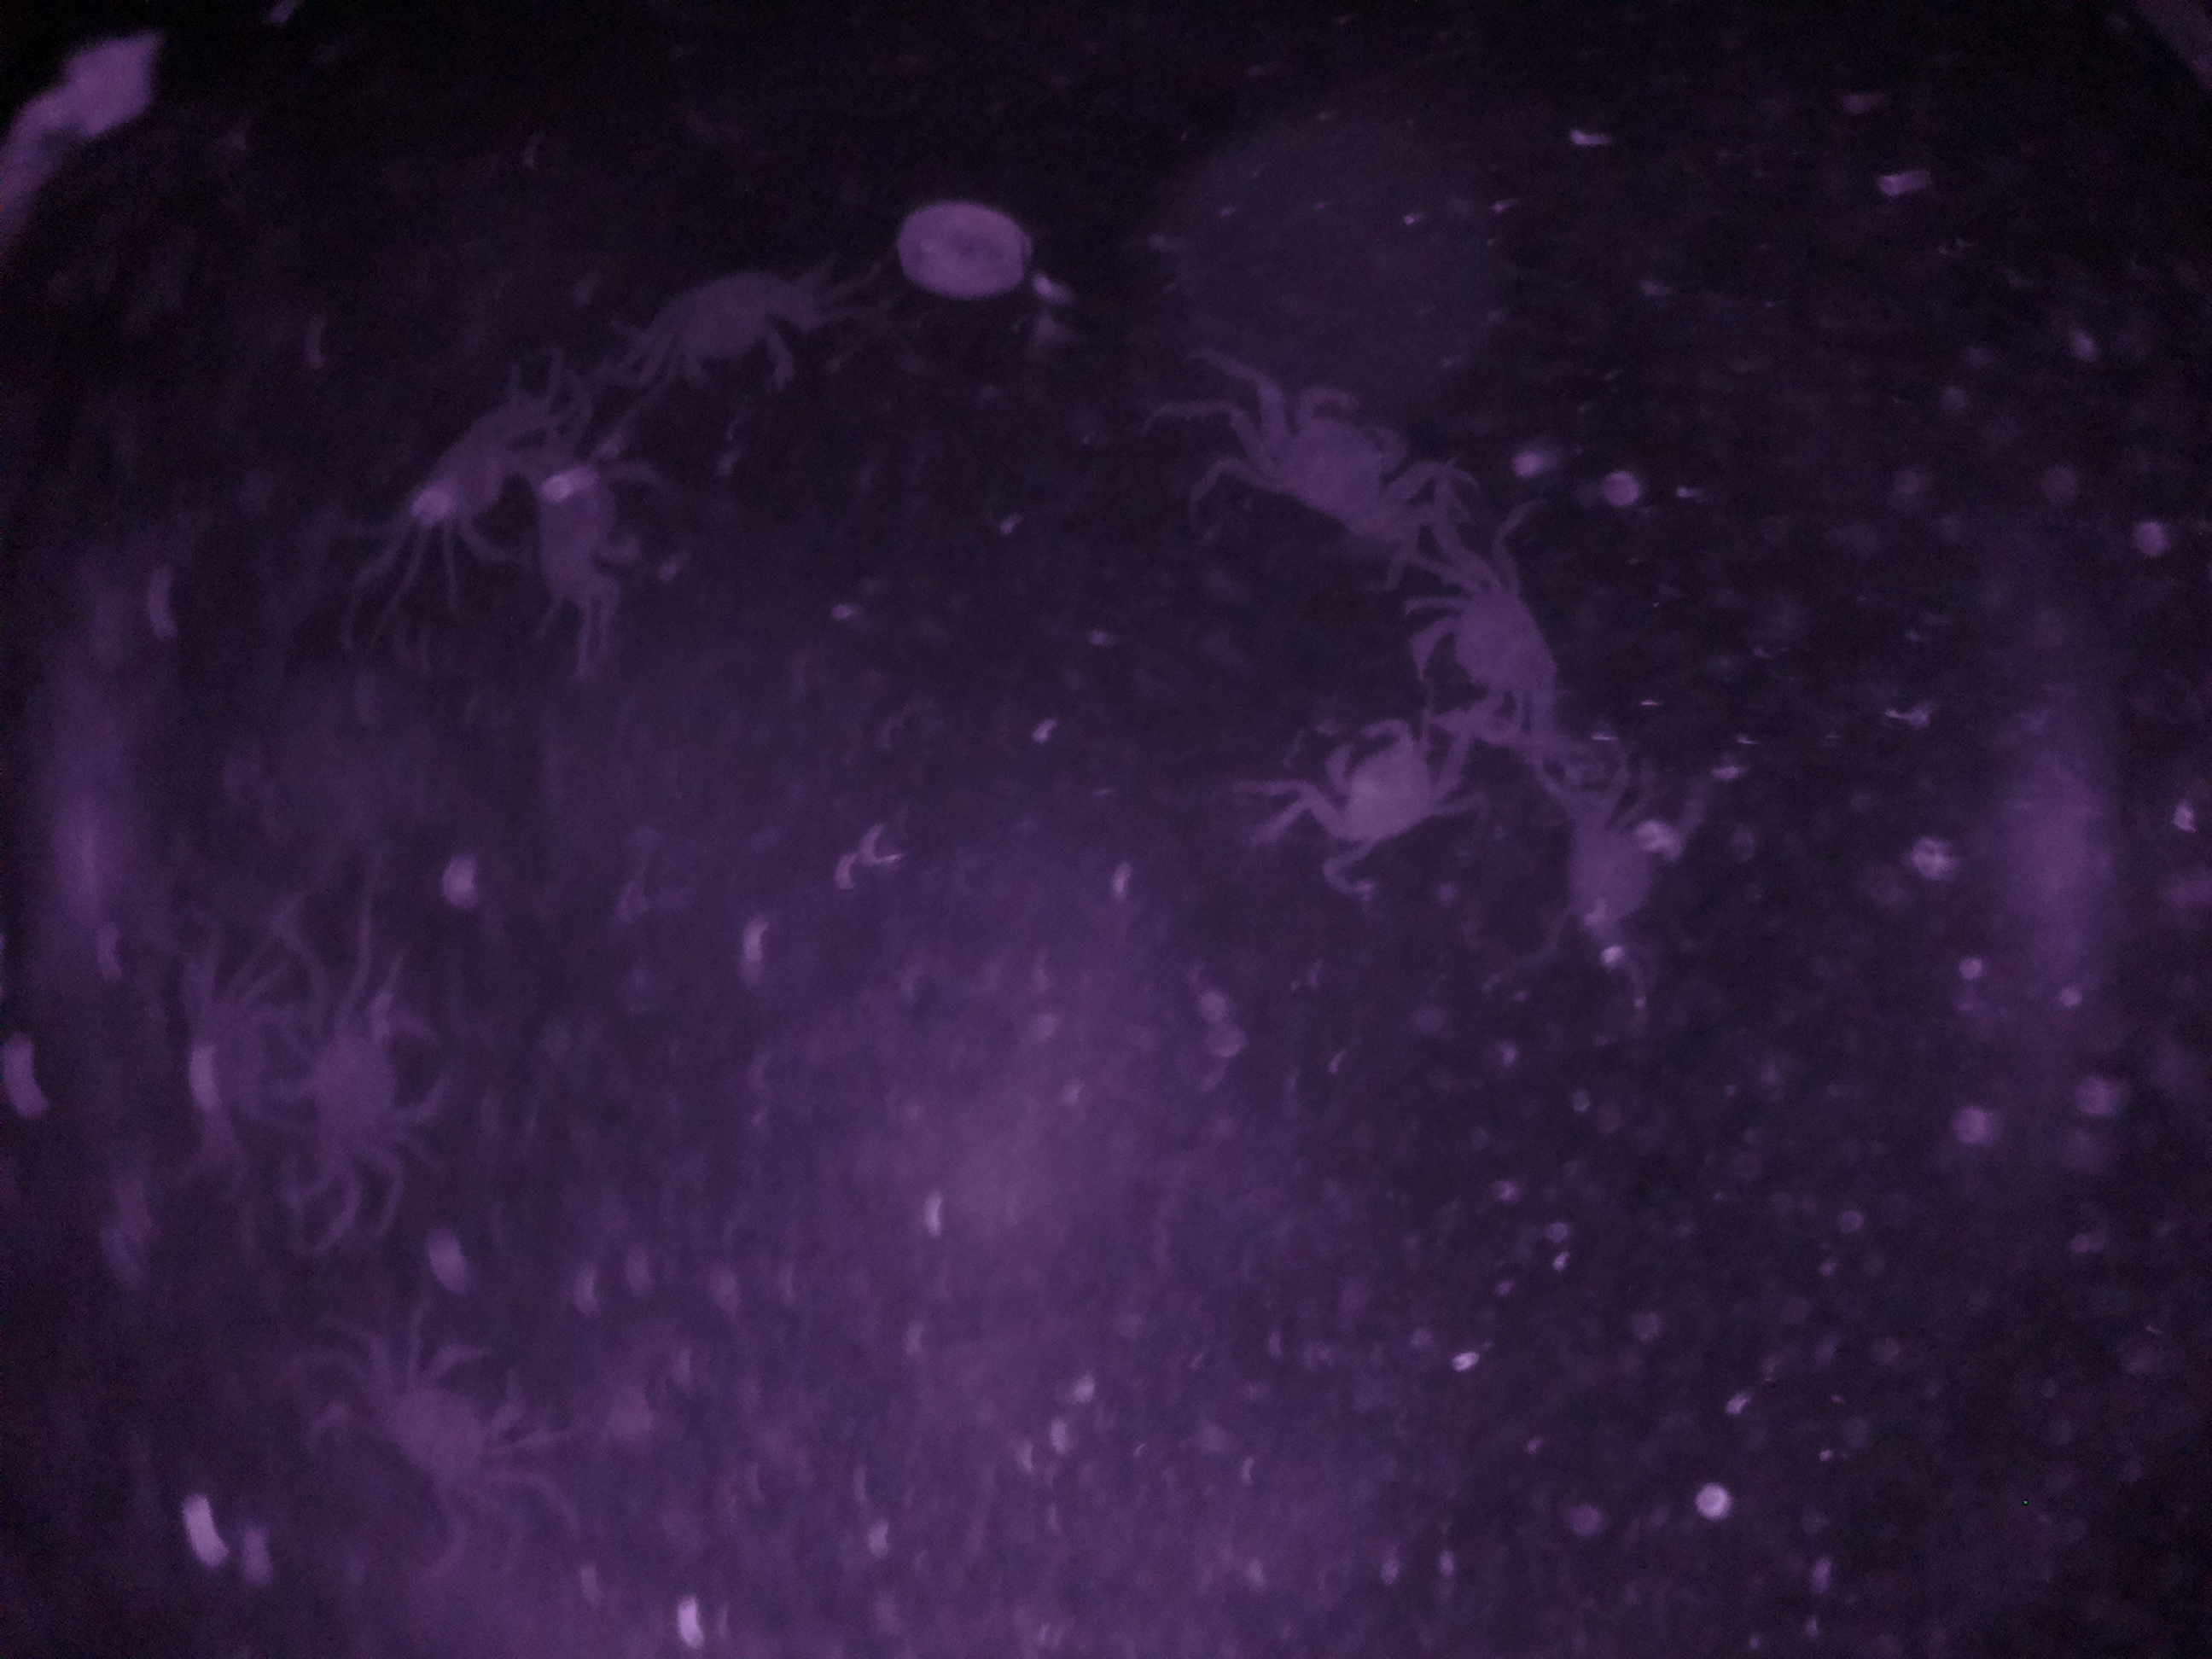Crab: (1198, 376, 1446, 563), (1400, 559, 1597, 760)
